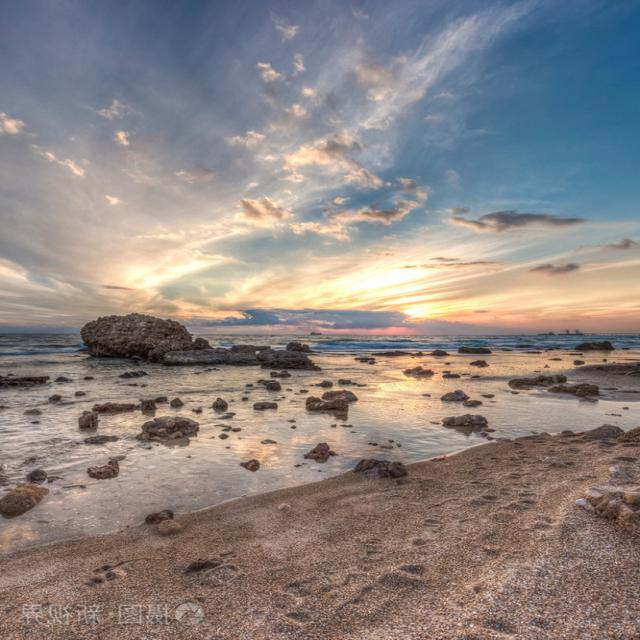reef: (52, 321, 354, 388)
